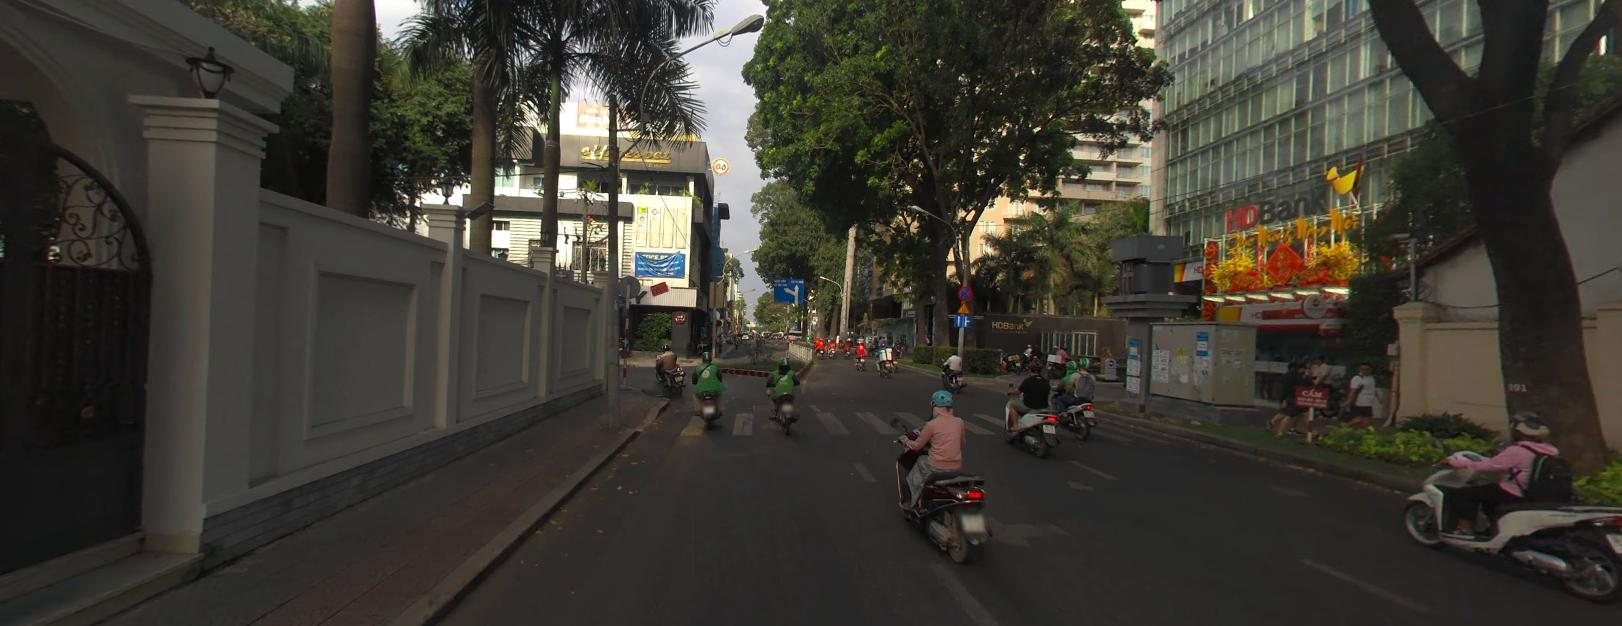Cam dung va do: (955, 284, 972, 300)
Nguy hiem: (954, 300, 970, 311)
